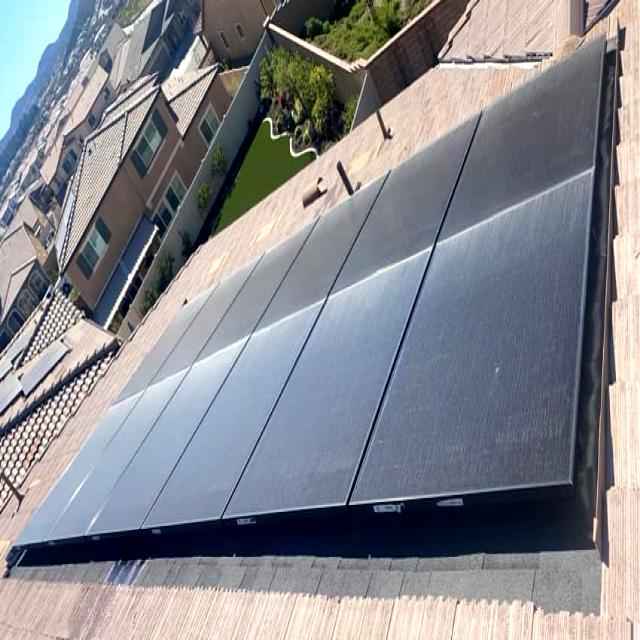dust: (436, 245, 566, 468), (368, 331, 423, 484), (486, 104, 586, 184), (243, 344, 296, 487), (314, 306, 351, 483), (260, 253, 378, 306), (100, 418, 147, 520), (384, 174, 436, 234), (196, 428, 230, 511)
